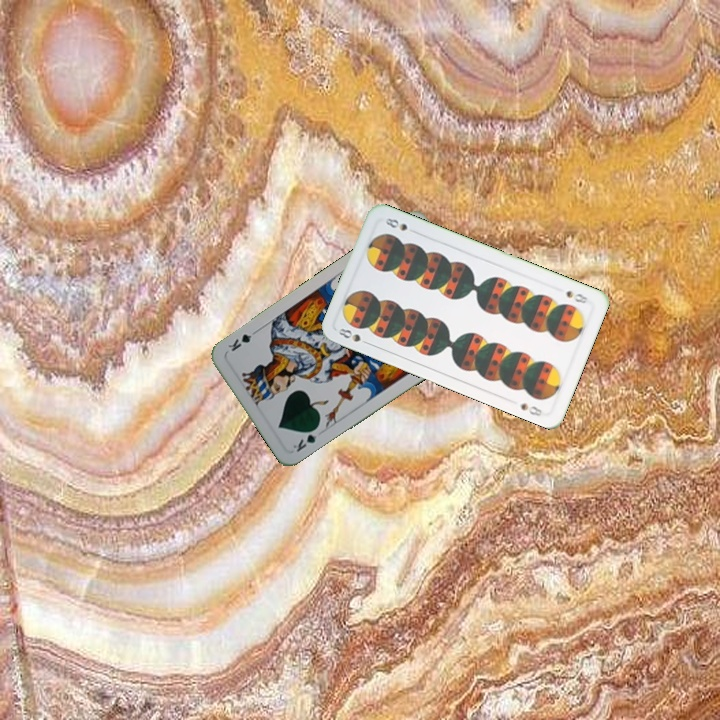GK: (289, 423, 322, 455)
S8: (335, 324, 373, 348), (562, 286, 591, 306)
